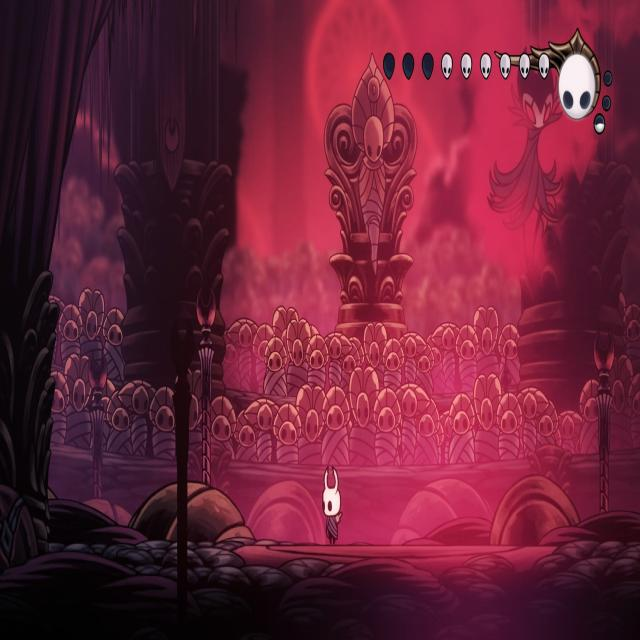Dive Dash: (485, 40, 563, 273)
Player: (318, 460, 344, 547)
